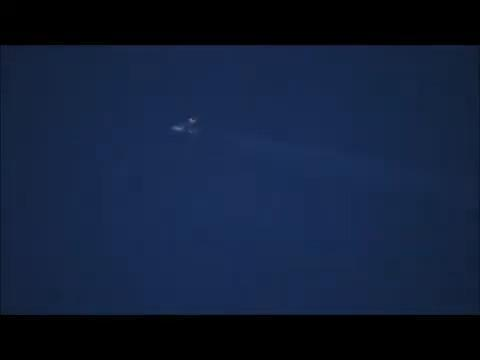Plane: (152, 107, 225, 149)
